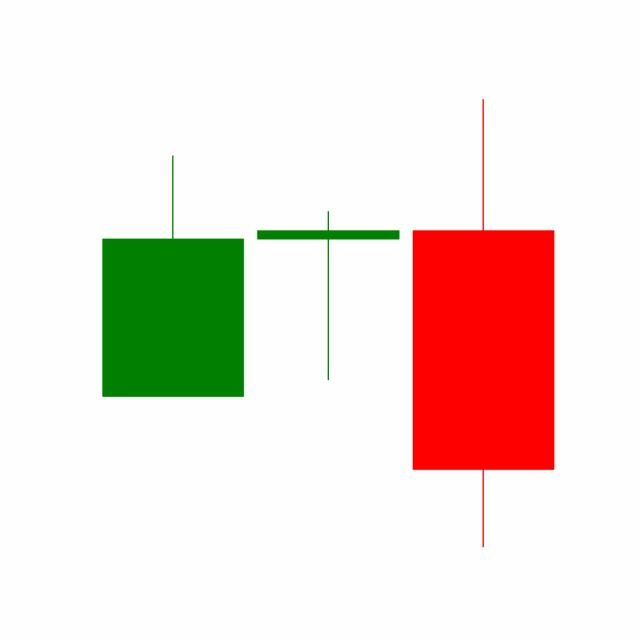Dragonfly Doji: (249, 208, 406, 382)
